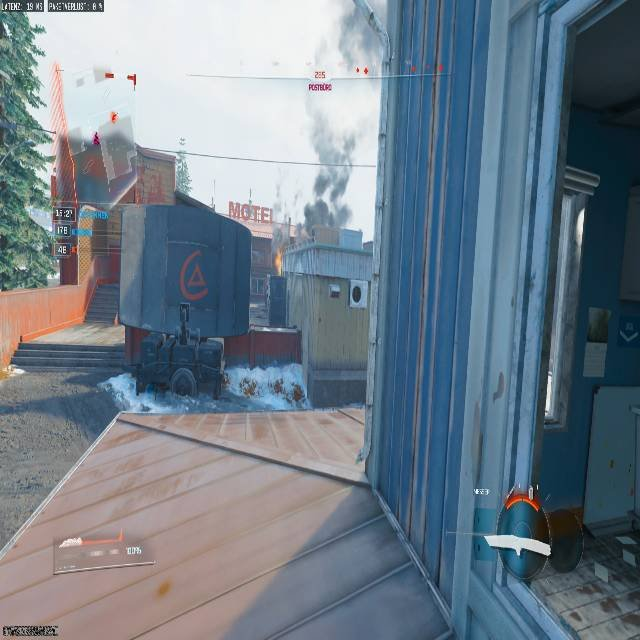player: (302, 0, 379, 230)
